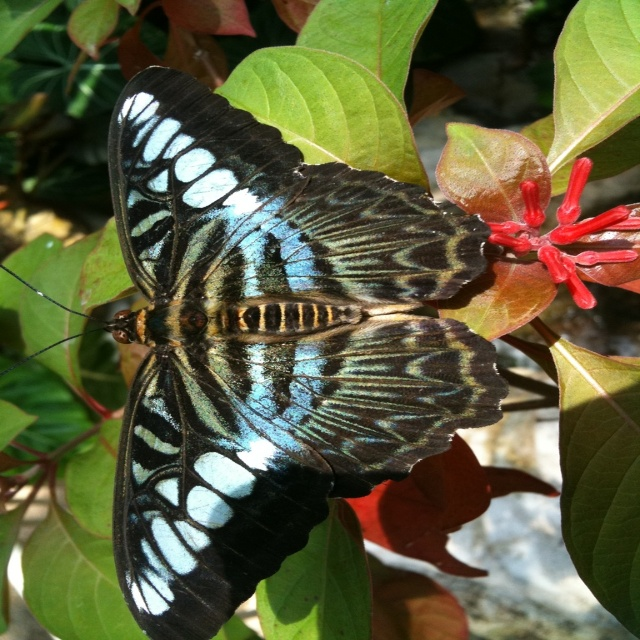Butterfly: (84, 19, 530, 640)
